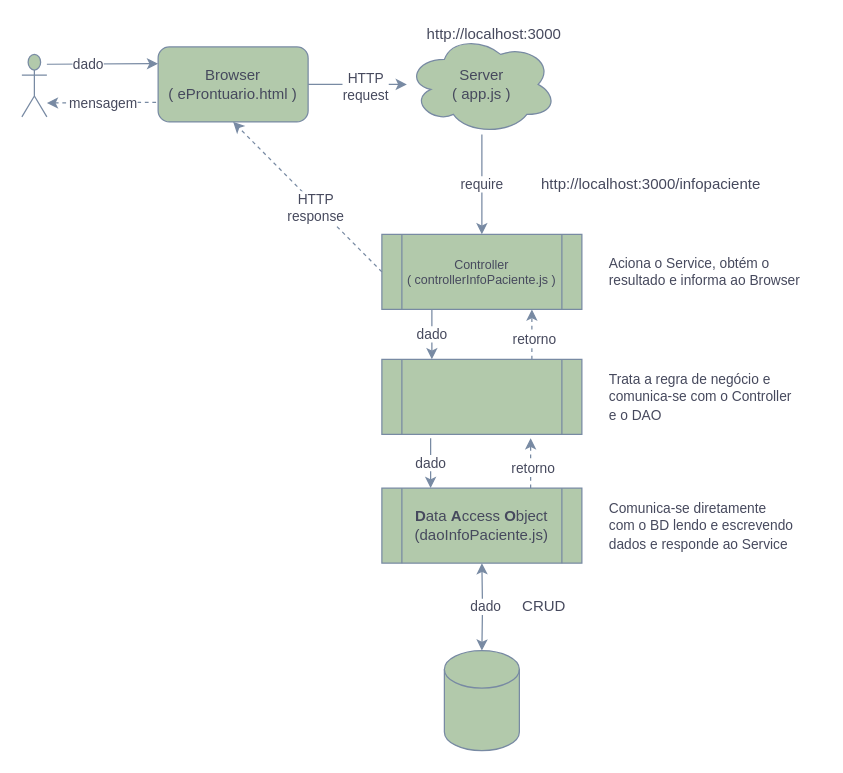
Image size: 843x773. Some labels were removed from this diagram. Here are the shapes that lost their labels. From the top down, the centre of each, then its label:
(481,396): Service (serviceInfoPaciente.js)
(481,700): BD ( Array )
